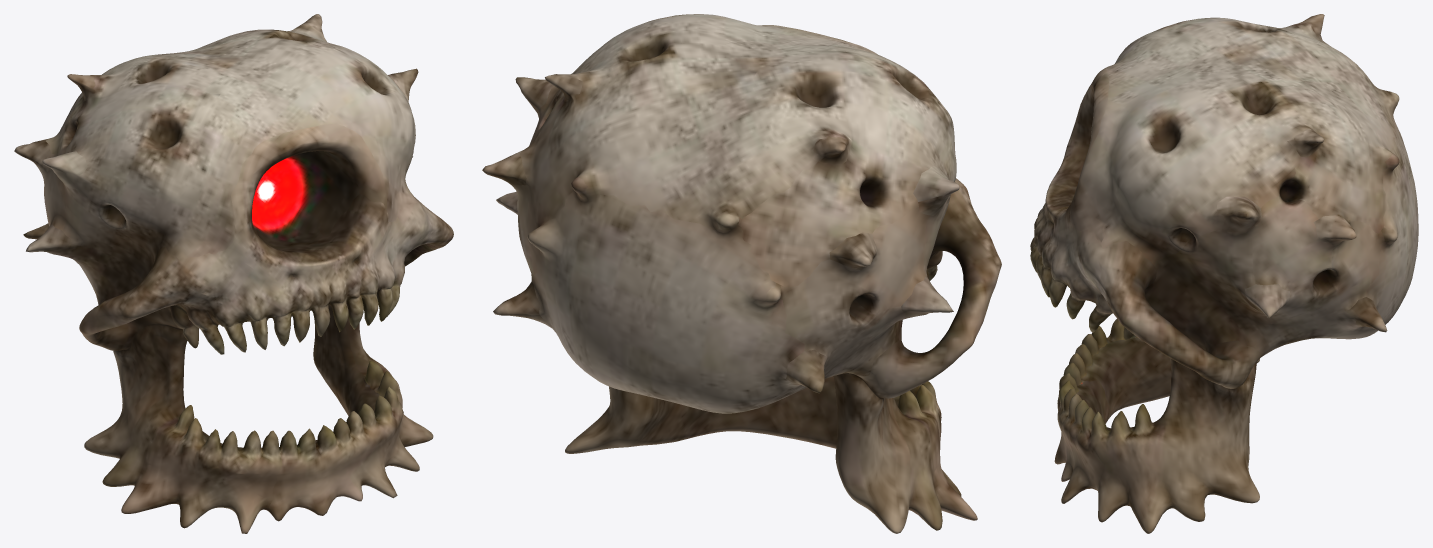
File: MZ4250 - Death Tyrant Updated.glb
The picture shows the model from 3 angles, left to right: view 1: azimuth 30°, elevation 25°; view 2: azimuth 150°, elevation 25°; view 3: azimuth 270°, elevation 25°; orthographic projection. The views are drawn at different scales.
Parts seen in each view (by area): view 1: ORGANIC BASE SPHERE.001; view 2: ORGANIC BASE SPHERE.001; view 3: ORGANIC BASE SPHERE.001.
Boxes of the visible parts, x1=… form: ORGANIC BASE SPHERE.001: x1=14, y1=14, x2=453, y2=533; ORGANIC BASE SPHERE.001: x1=482, y1=14, x2=1001, y2=533; ORGANIC BASE SPHERE.001: x1=1030, y1=14, x2=1418, y2=533.
Size of the model in its own units: 1.19 by 1.17 by 1.01.
1 material, 1 textured.
